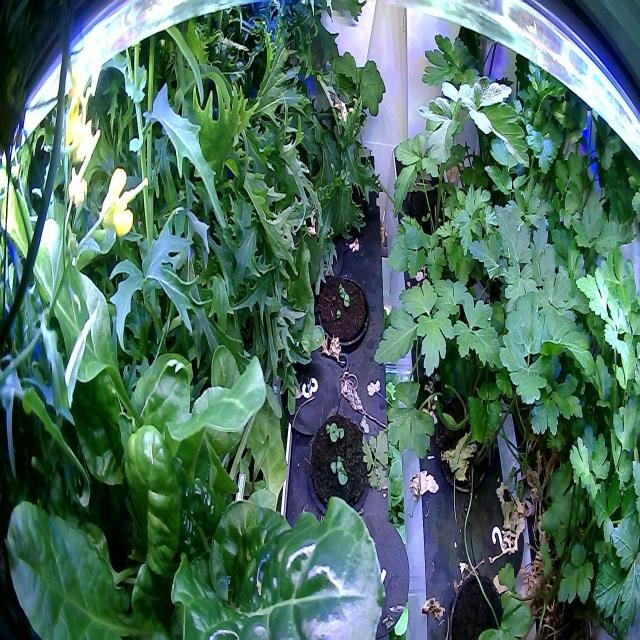germination: (303, 407, 374, 521), (310, 266, 371, 354)
